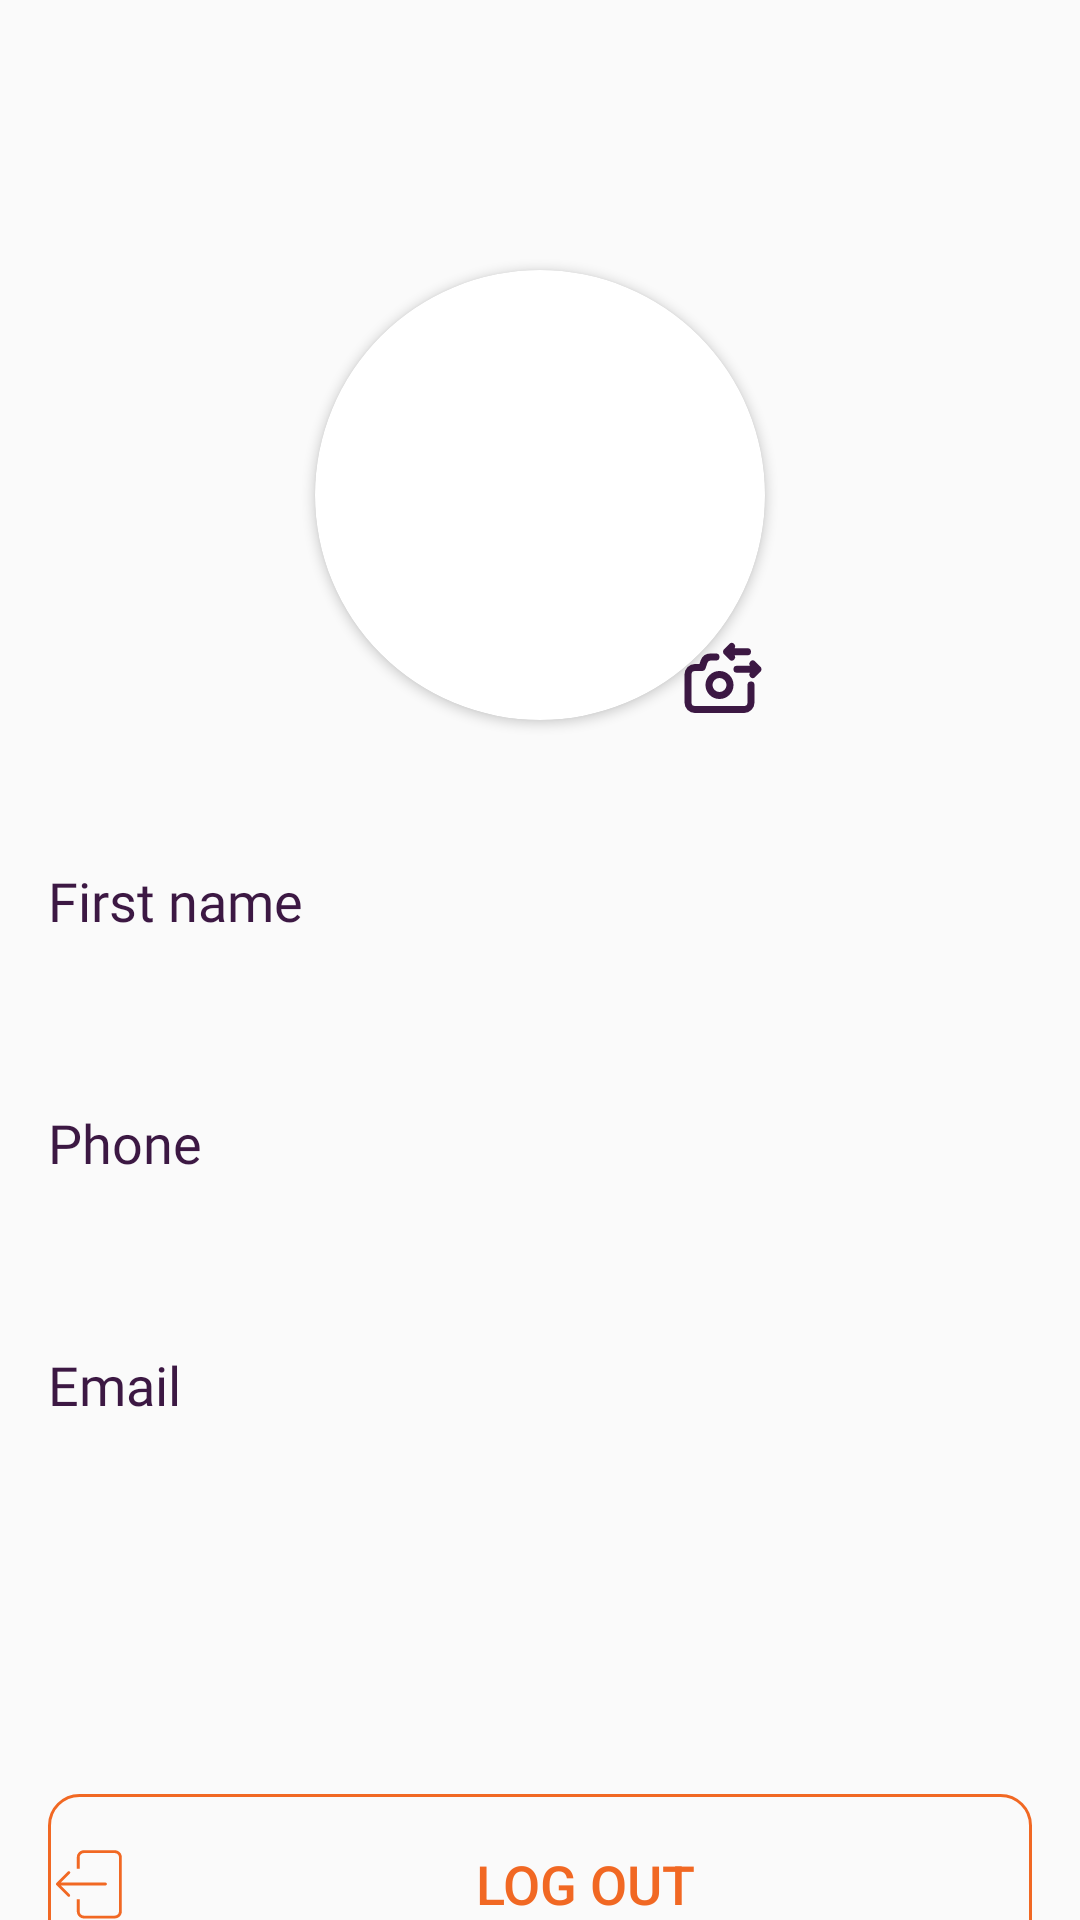

Icons on this 1080w x 1920h Android screen, each with its box as (x1, y1, x2, y2):
camera change: (681, 636, 762, 713)
